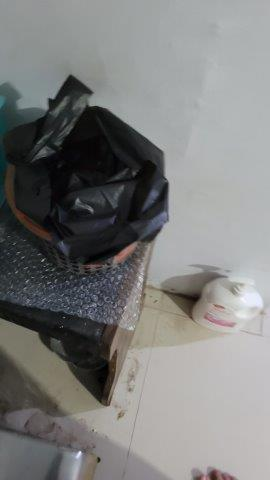plastik: (25, 74, 166, 247)
